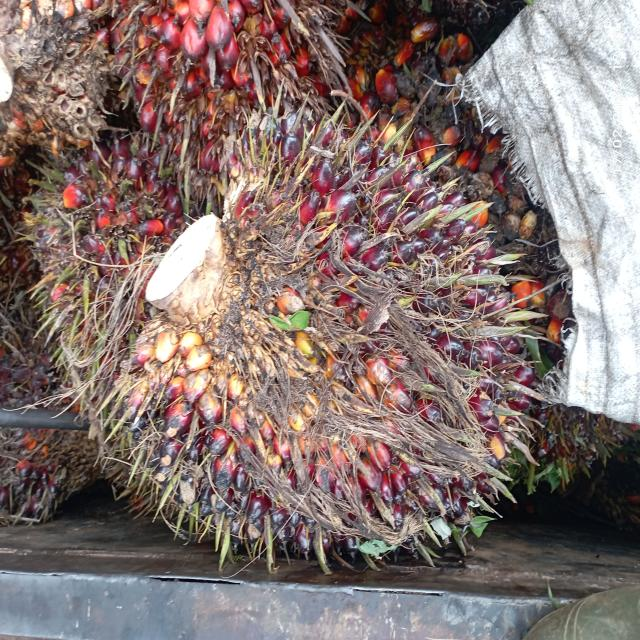fraksi 1: (114, 112, 539, 571)
